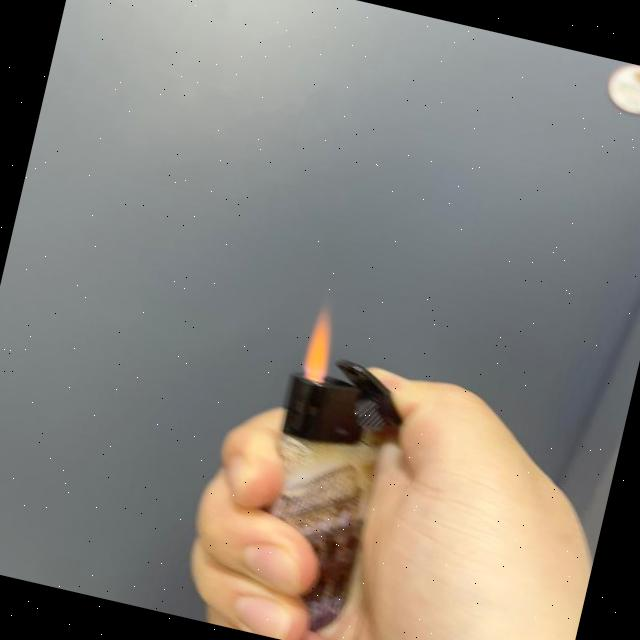fire: (296, 294, 348, 384)
